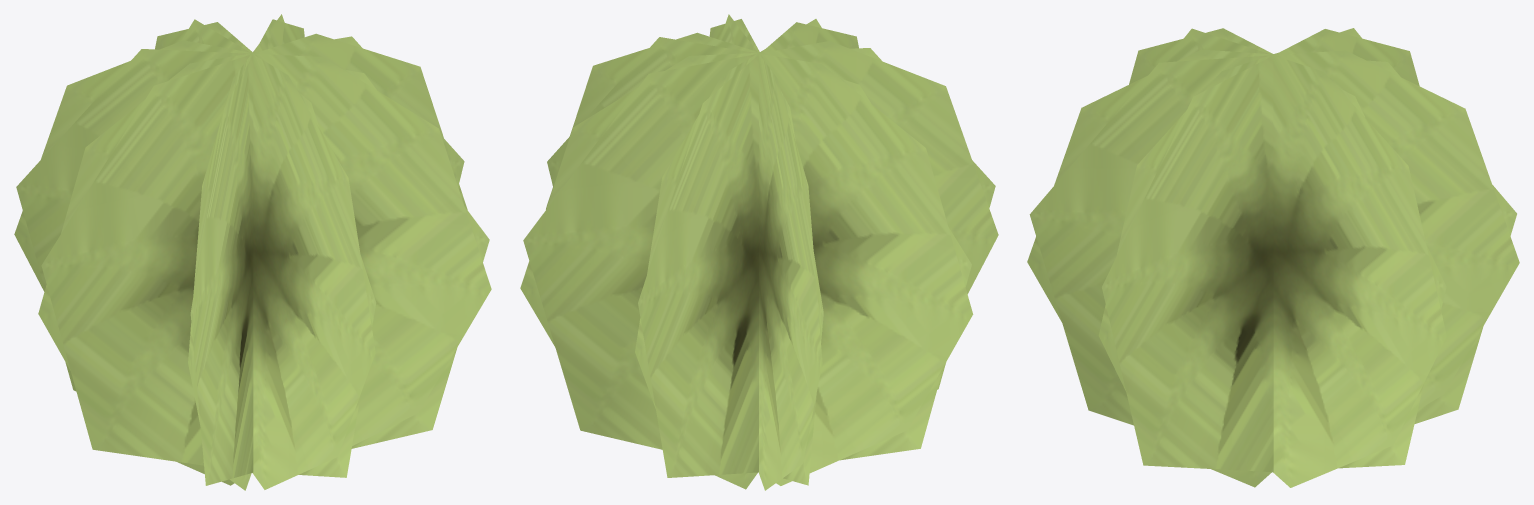
Rendered from HP3_weed024 1.fbx.
The picture shows the model from 3 angles, left to right: view 1: azimuth 30°, elevation 25°; view 2: azimuth 150°, elevation 25°; view 3: azimuth 270°, elevation 25°; orthographic projection.
Visible parts, largest first — view 1: HP3_weed024; view 2: HP3_weed024; view 3: HP3_weed024.
Part boxes in pixels (<box>): HP3_weed024: <box>14,14,491,490</box>; HP3_weed024: <box>520,14,998,490</box>; HP3_weed024: <box>1027,28,1519,487</box>.
Size of the model in its own units: 10 by 9.64 by 10.
